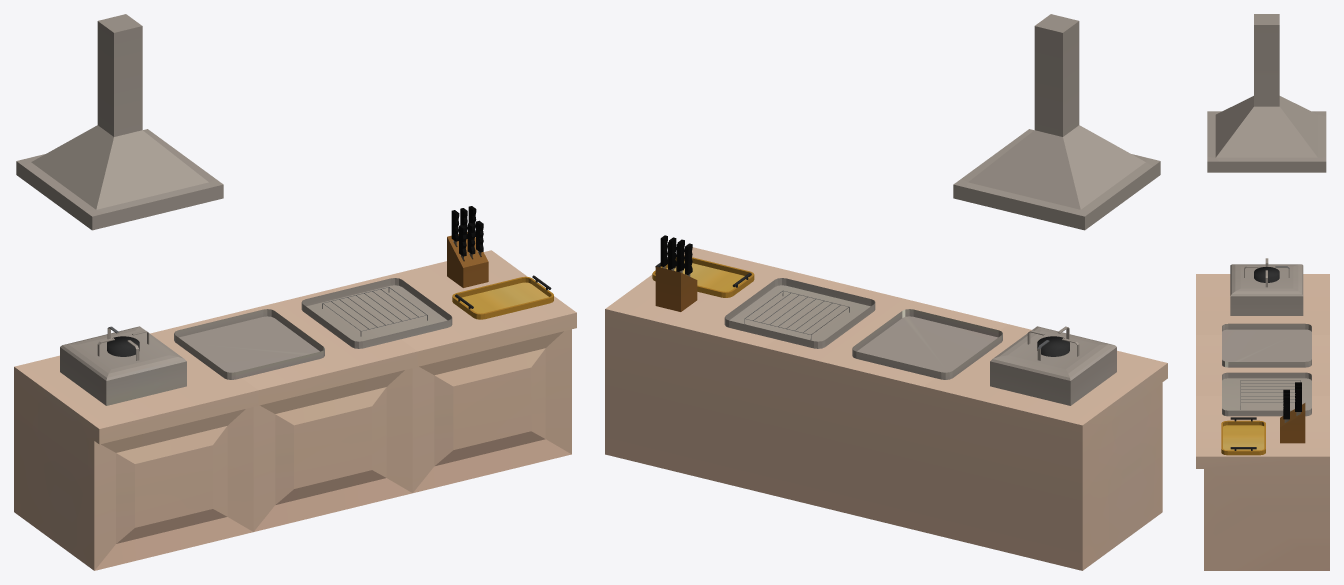
The model's file is mutfak2.fbx.
The picture shows the model from 3 angles, left to right: view 1: azimuth 30°, elevation 25°; view 2: azimuth 150°, elevation 25°; view 3: azimuth 270°, elevation 25°; orthographic projection. The views are drawn at different scales.
Parts seen in each view (by area): view 1: Cube.002; view 2: Cube.002; view 3: Cube.002.
Boxes of the visible parts, x1=… form: Cube.002: x1=14, y1=14, x2=576, y2=570; Cube.002: x1=605, y1=14, x2=1167, y2=570; Cube.002: x1=1196, y1=14, x2=1329, y2=570.
Size of the model in its own units: 3358 by 3374 by 1039.
1 material, 1 textured.
